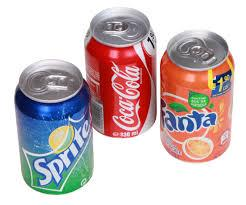Aluminum can: (6, 53, 99, 205), (75, 9, 160, 142), (153, 21, 232, 164)
